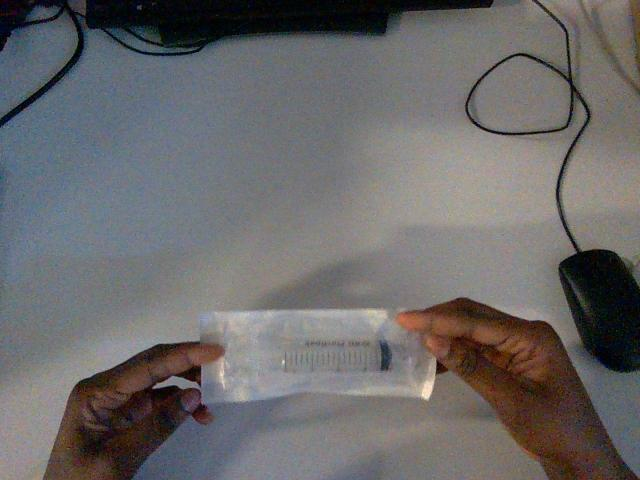syringe: (201, 309, 435, 403)
